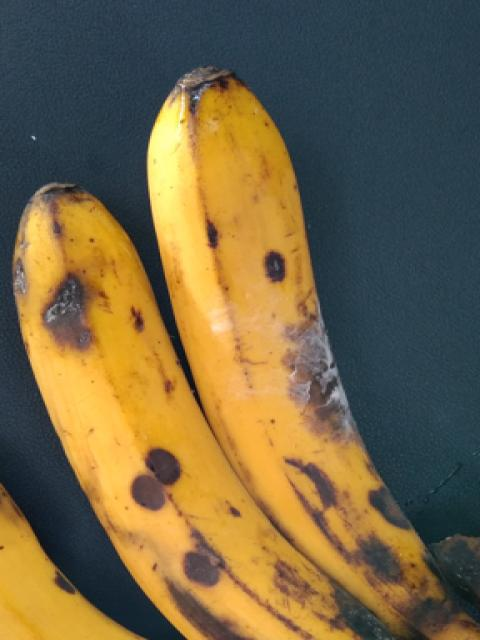overripe: (134, 56, 479, 639), (6, 176, 374, 639)
rotten: (245, 259, 412, 493)
